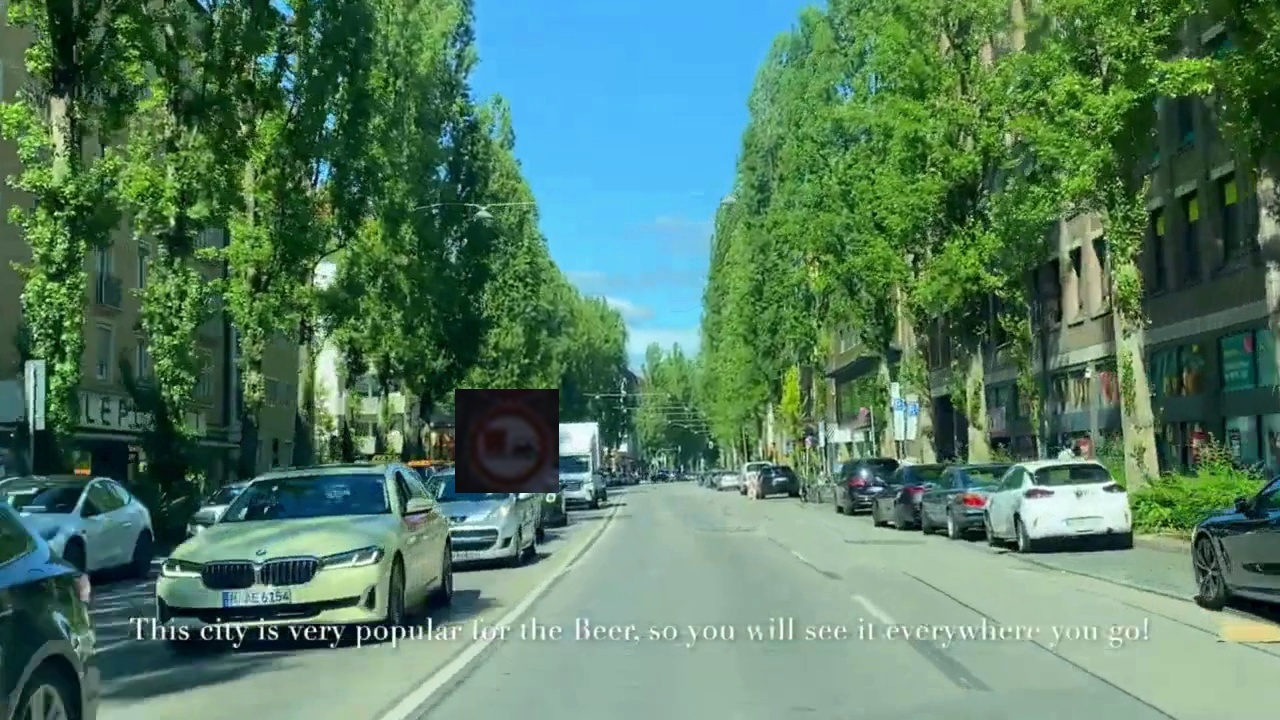No pass >3.5t: (455, 389, 559, 493)
